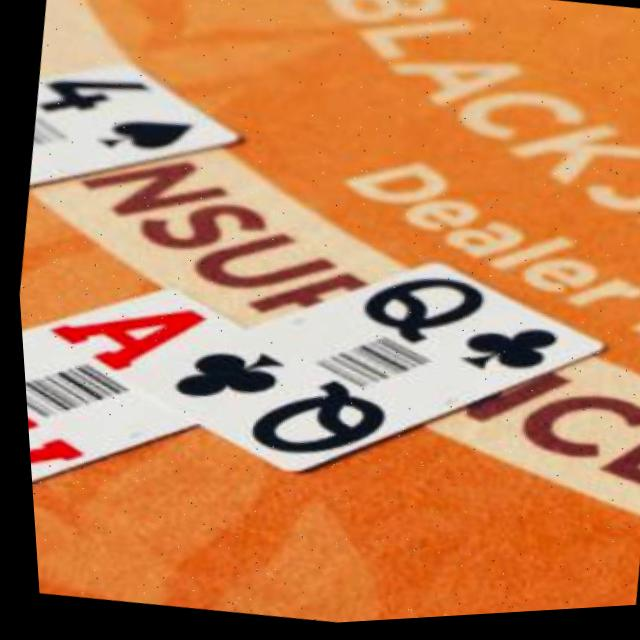Card-4: (28, 67, 238, 185)
Card-A: (17, 291, 236, 482)
Card-Q: (118, 265, 598, 475)
